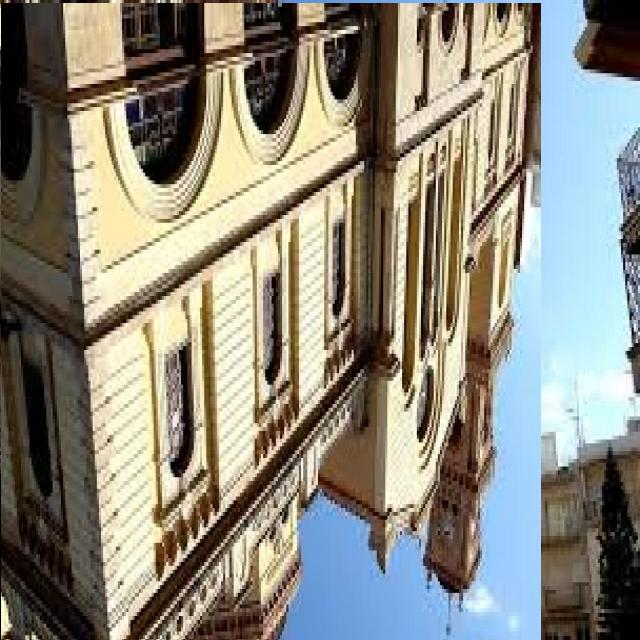Agios Minas: (2, 4, 542, 640)
